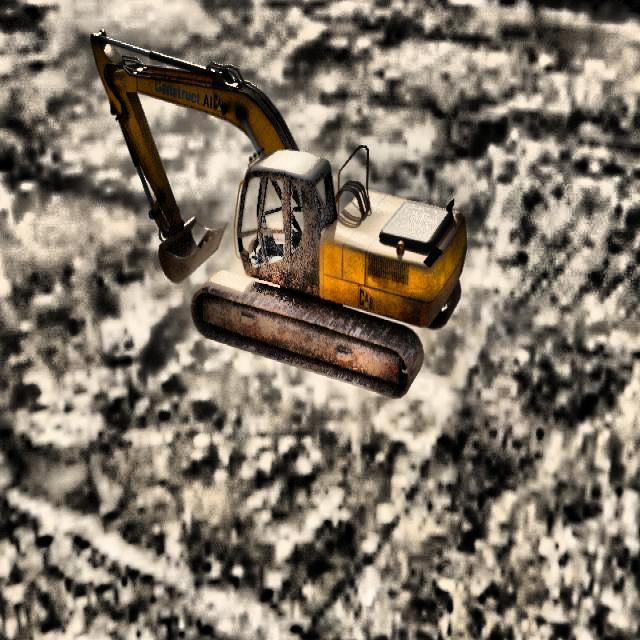excavator: (89, 28, 467, 398)
